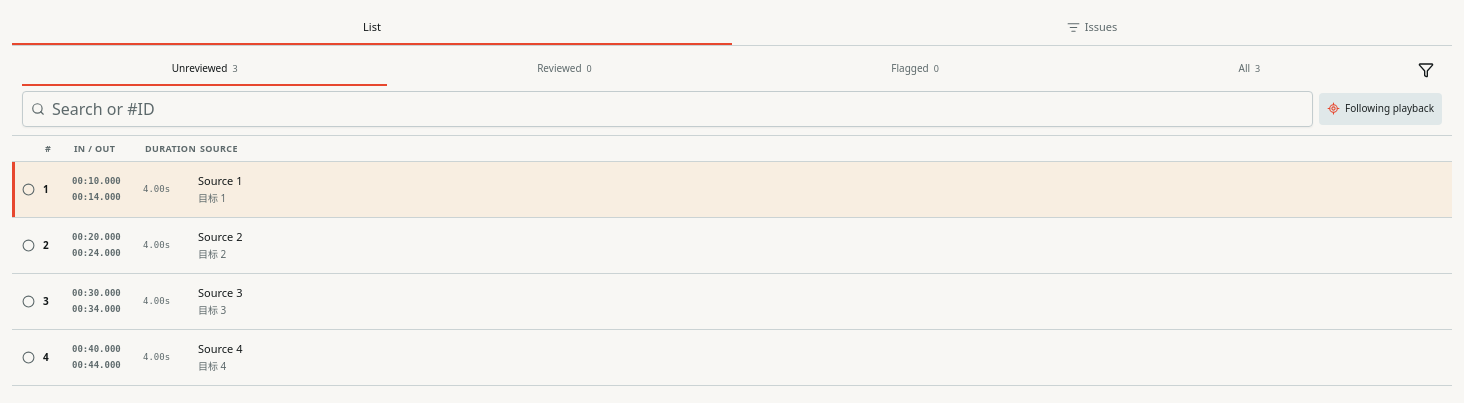
Test case: list/issues tabs › switches to the issues view and persists the tab
Expected: the search field labelled "Search or #ID" is shown, [22, 90, 1313, 126]
Click the tab "Issues": (1092, 28) [732, 12, 1452, 44]
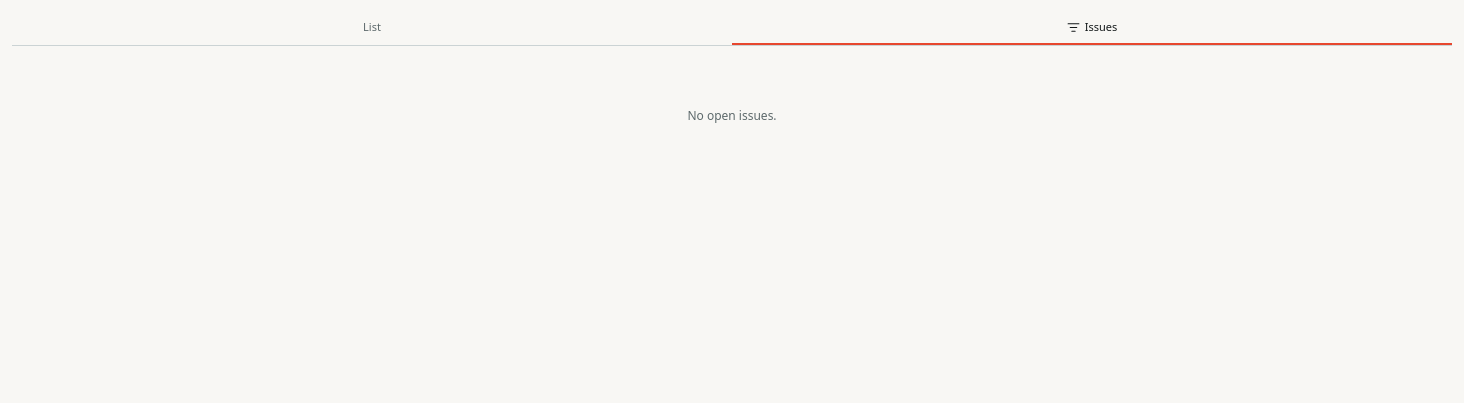
Expected: the search field labelled "Search or #ID" is not shown
Result: the text "No open issues." is shown at [687, 106, 777, 124]
